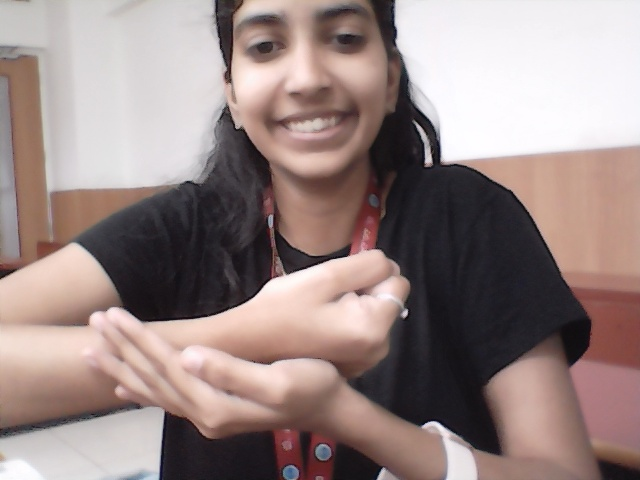Baby: (74, 224, 426, 449)
